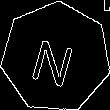N_N: (30, 28, 81, 87)
